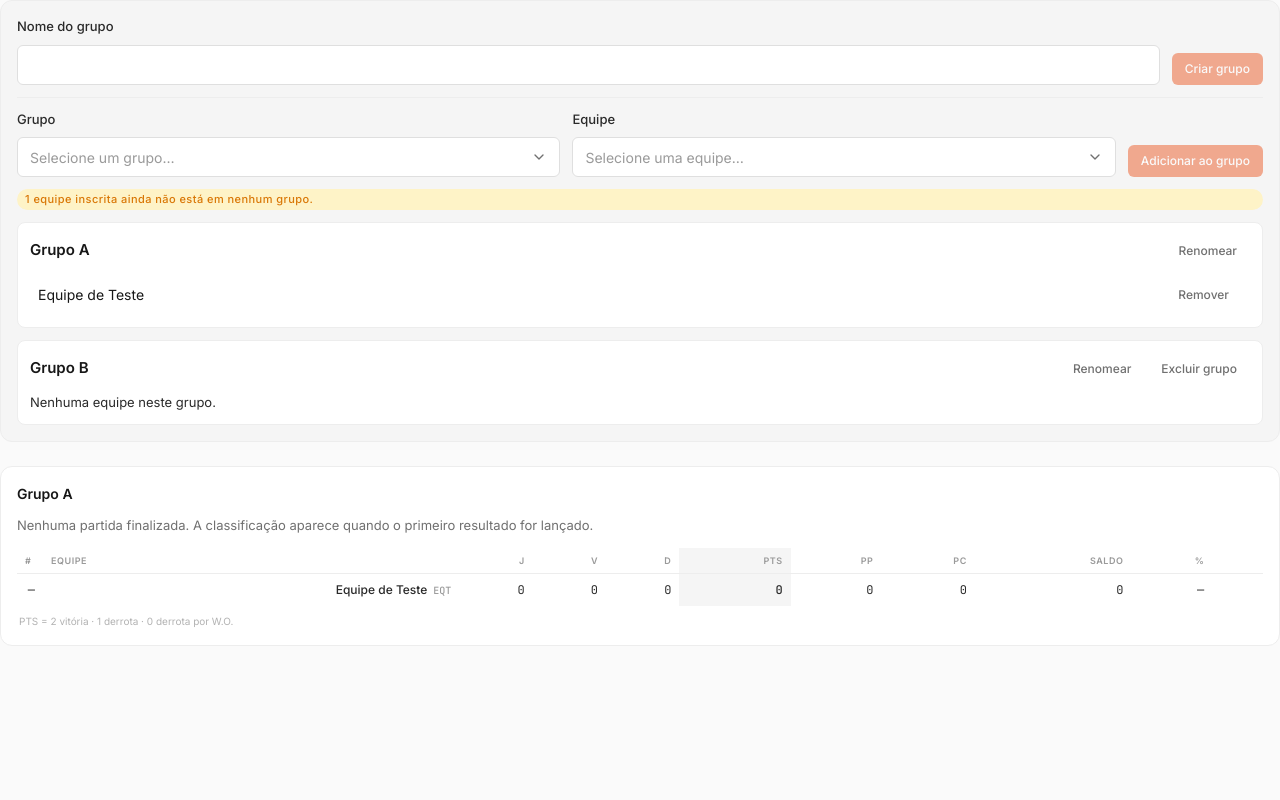
Test: GroupsTab › explains a team already assigned to a group from the api error code
Expected: the element "Grupo A" is shown, [17,222,1263,328]
Click the button labelled "Selecione um grupo…": (102, 157) [17,137,560,177]
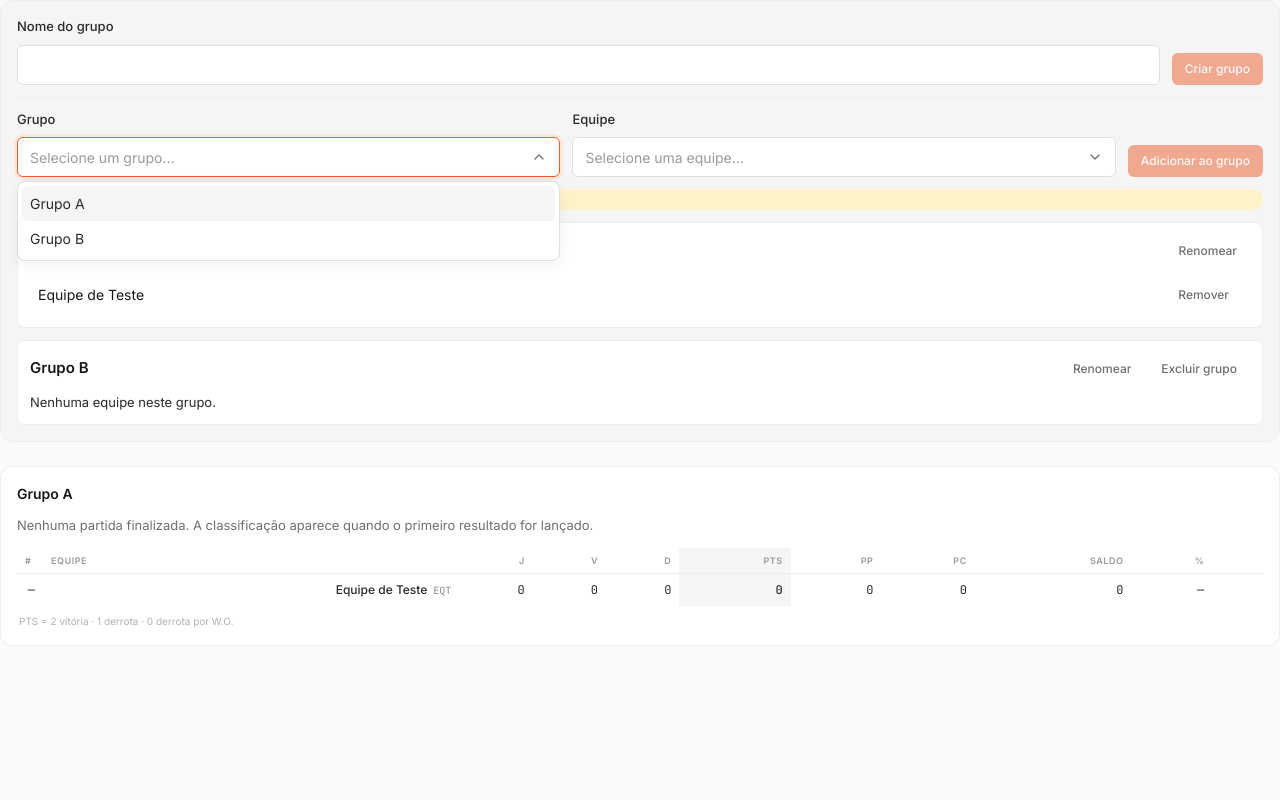
Click the option "Grupo A": (57, 204) [22,186,555,221]
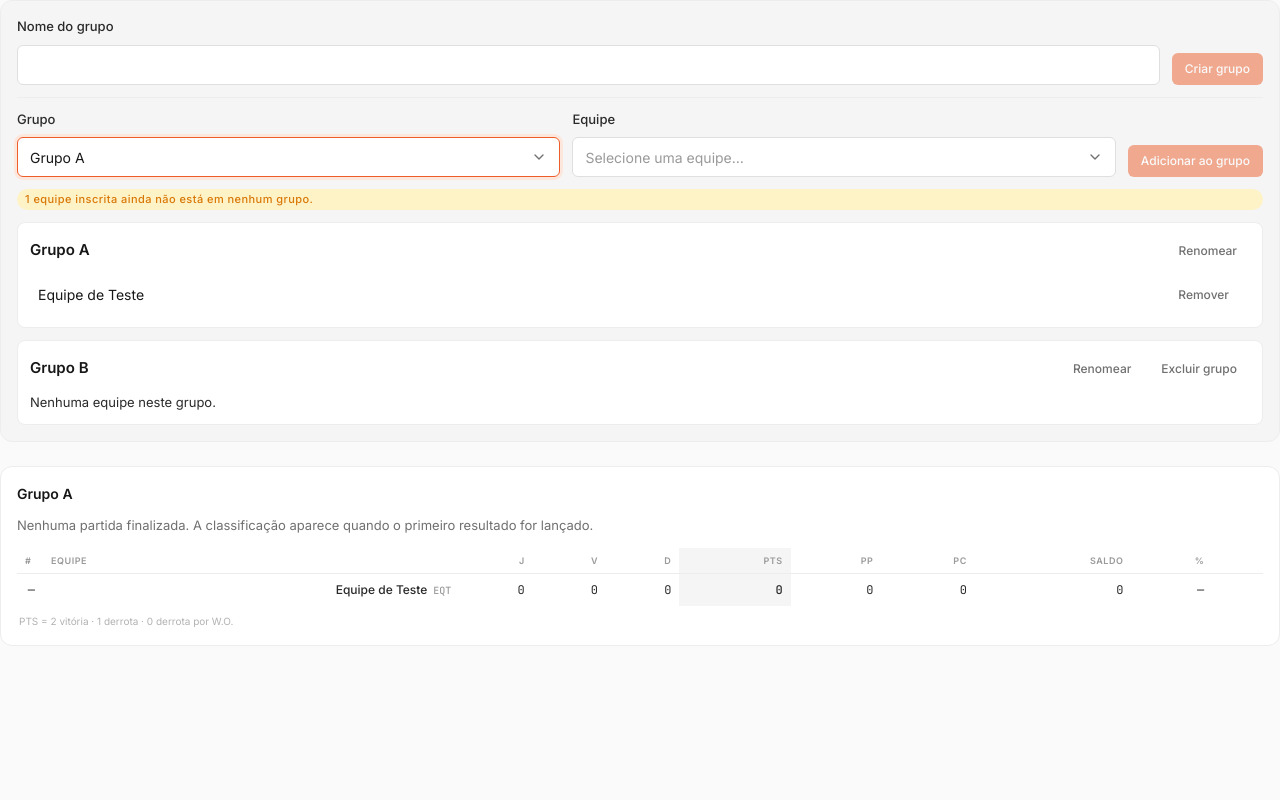
Click the button labelled "Selecione uma equipe…": (665, 157) [572,137,1116,177]
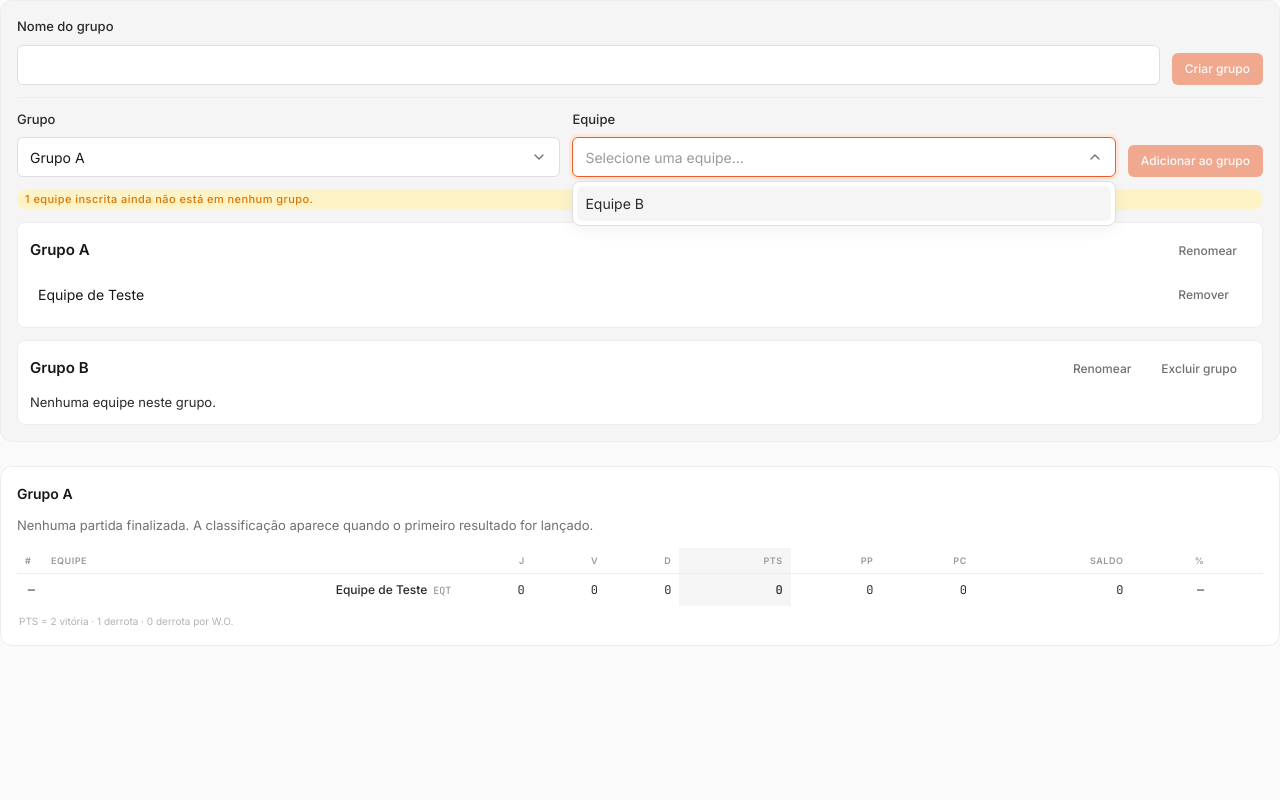
Click the option "Equipe B": (615, 204) [577,186,1111,221]
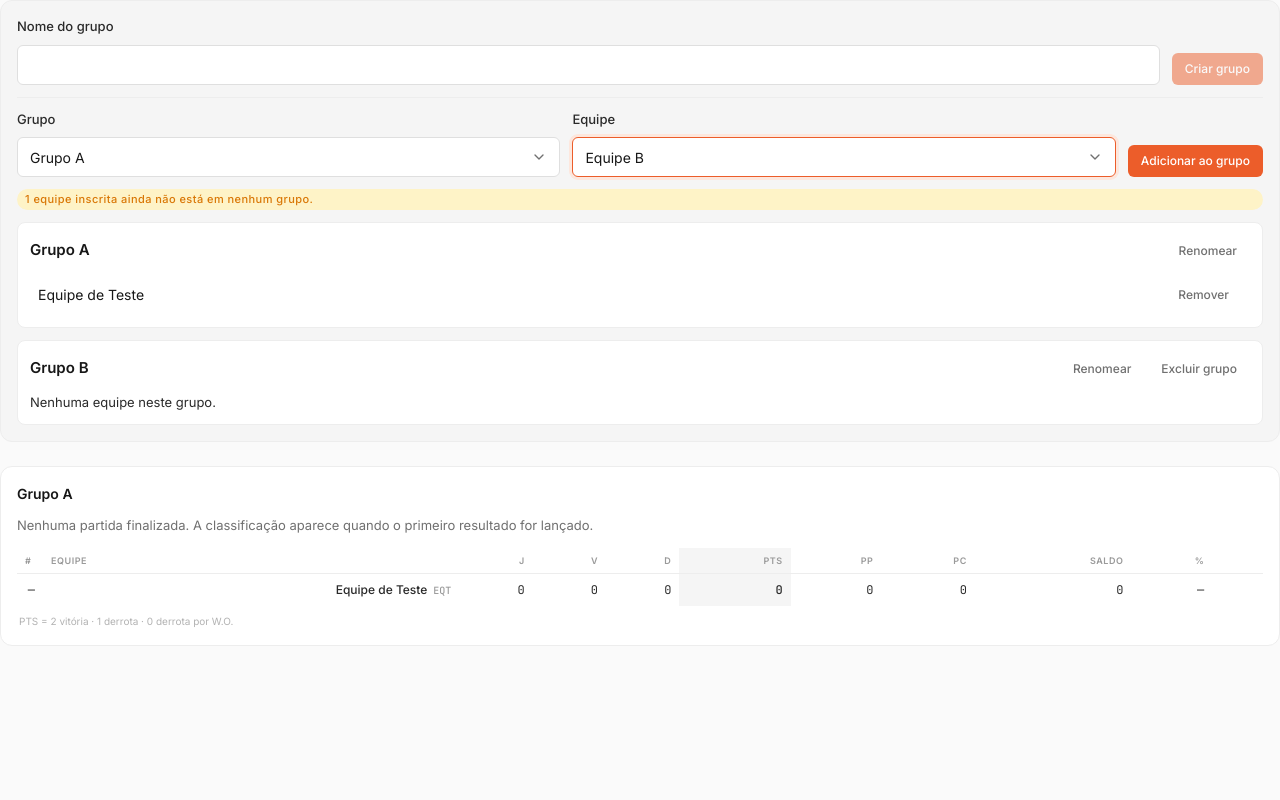
Click the button "Adicionar ao grupo": (1195, 161) [1128,145,1263,177]
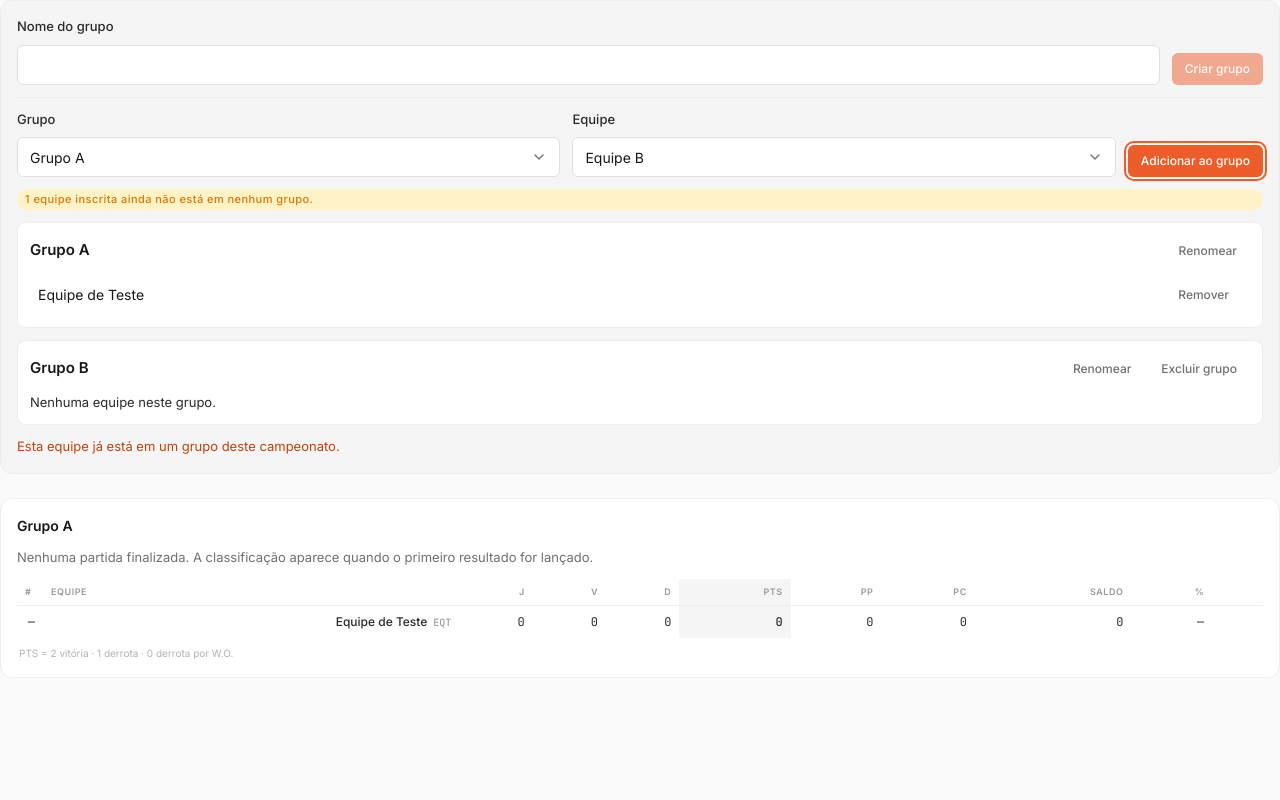
Now the message reads "Esta equipe já está em um grupo deste campeonato.", box [17,438,340,454]
